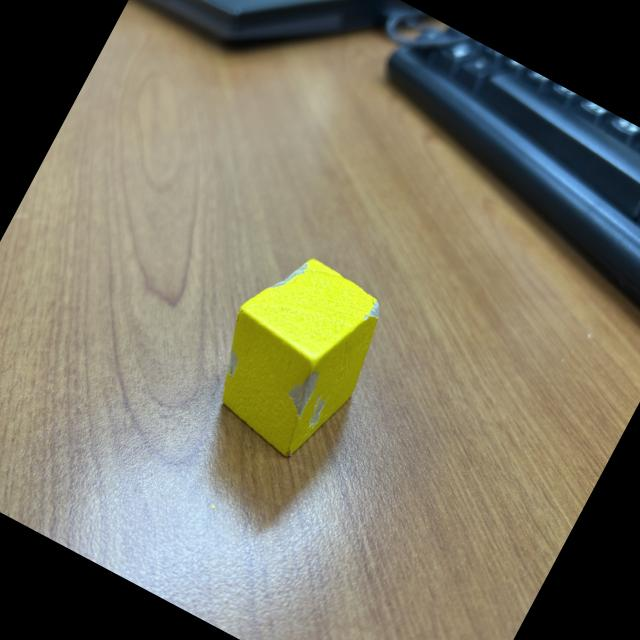broken: (188, 238, 401, 472)
